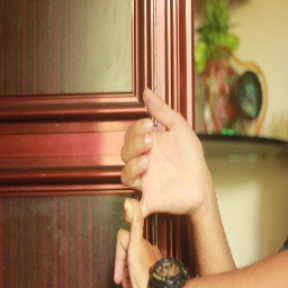S: (108, 86, 210, 288)
